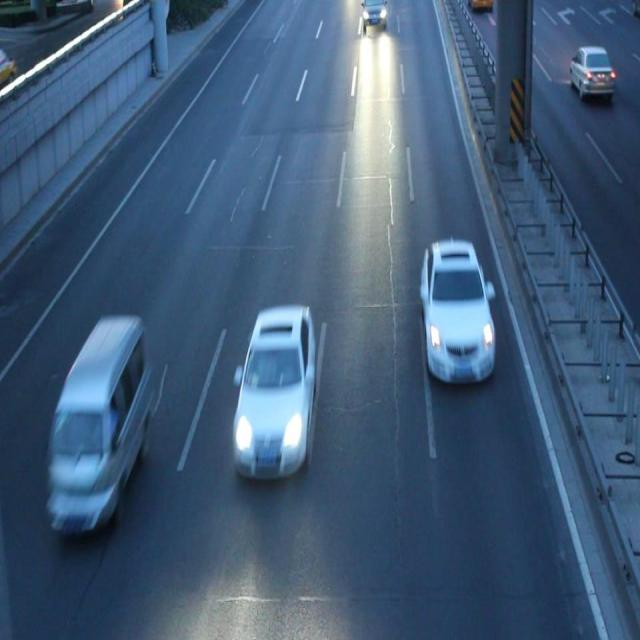car: (47, 318, 146, 532), (233, 306, 316, 481), (418, 239, 496, 387), (361, 2, 386, 34)
